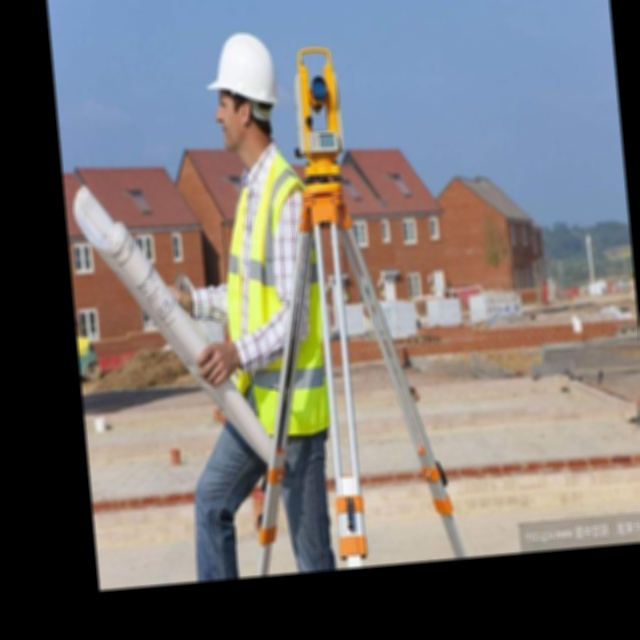Con_Casco: (208, 32, 283, 145)
Con_Chaleco: (210, 152, 329, 438)
